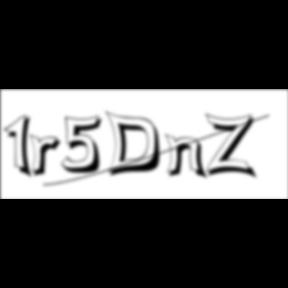1: (4, 114, 38, 182)
5: (62, 114, 108, 176)
D: (104, 110, 168, 180)
Z: (206, 112, 260, 181)
n: (164, 132, 212, 181)
r: (30, 134, 68, 180)
